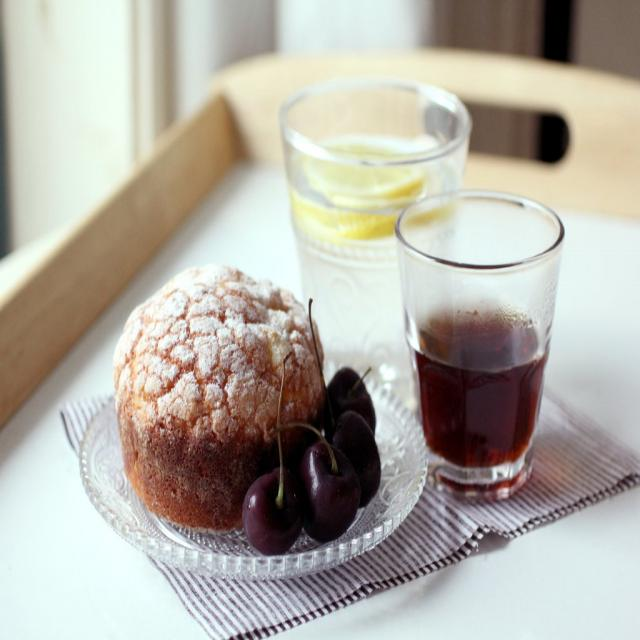Tea: (410, 308, 544, 470)
